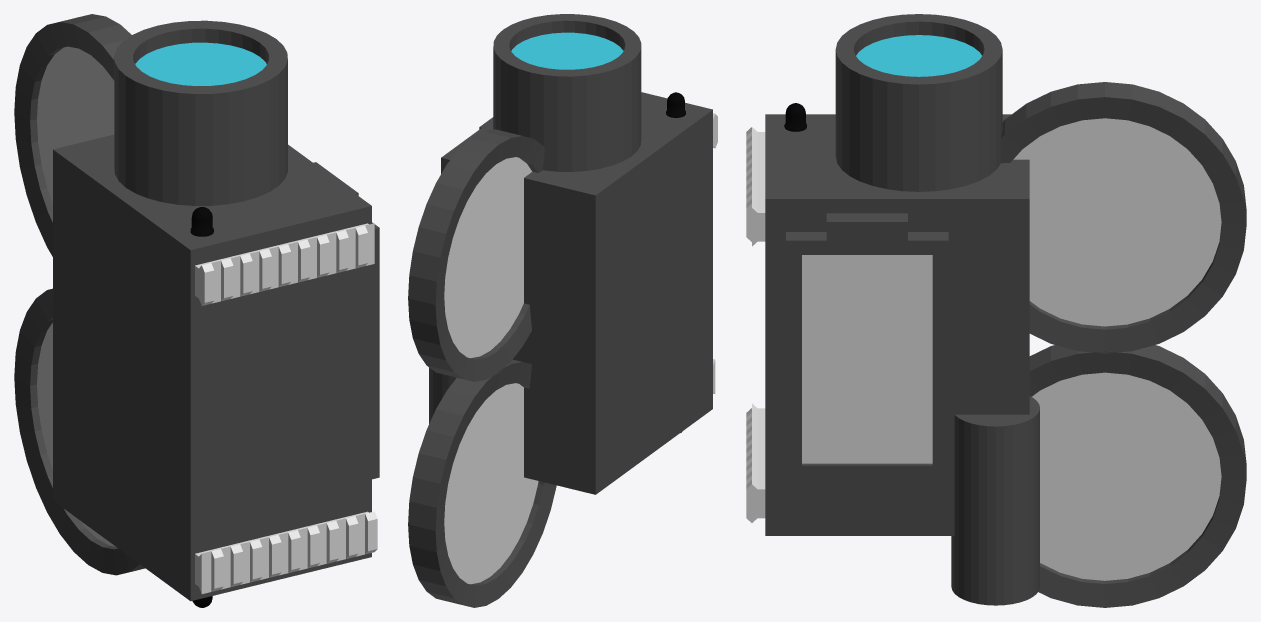
File: SpectatorCamera.fbx
The picture shows the model from 3 angles, left to right: view 1: azimuth 30°, elevation 25°; view 2: azimuth 150°, elevation 25°; view 3: azimuth 270°, elevation 25°; orthographic projection. The views are drawn at different scales.
Parts seen in each view (by area): view 1: CameraMain, CameraPicLowerRearward, CameraPicLowerForward, CameraScreen, CameraLight; view 2: CameraMain, CameraLight; view 3: CameraMain, CameraScreen, CameraPicLowerRearward, CameraPicLowerForward.
Part boxes in pixels (bbox=[...]): CameraMain: bbox=[14, 14, 371, 601]; CameraPicLowerRearward: bbox=[195, 511, 377, 593]; CameraPicLowerForward: bbox=[195, 223, 374, 305]; CameraScreen: bbox=[313, 162, 379, 479]; CameraLight: bbox=[190, 207, 213, 607]; CameraMain: bbox=[408, 14, 712, 607]; CameraLight: bbox=[666, 92, 685, 432]; CameraMain: bbox=[765, 14, 1246, 607]; CameraScreen: bbox=[786, 213, 948, 480]; CameraPicLowerRearward: bbox=[746, 403, 765, 522]; CameraPicLowerForward: bbox=[746, 127, 765, 246].
Size of the model in its own units: 0.1127 by 0.299 by 0.246.
